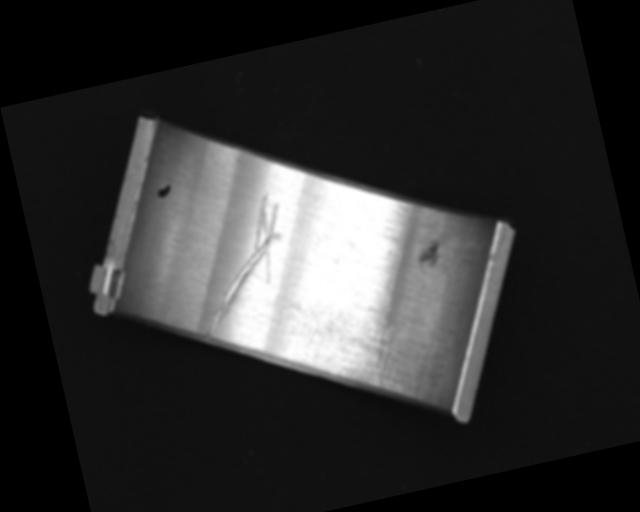blot: (153, 182, 173, 200)
bruise: (415, 240, 445, 269)
nick: (178, 188, 306, 338)
scratch: (298, 299, 420, 415)
